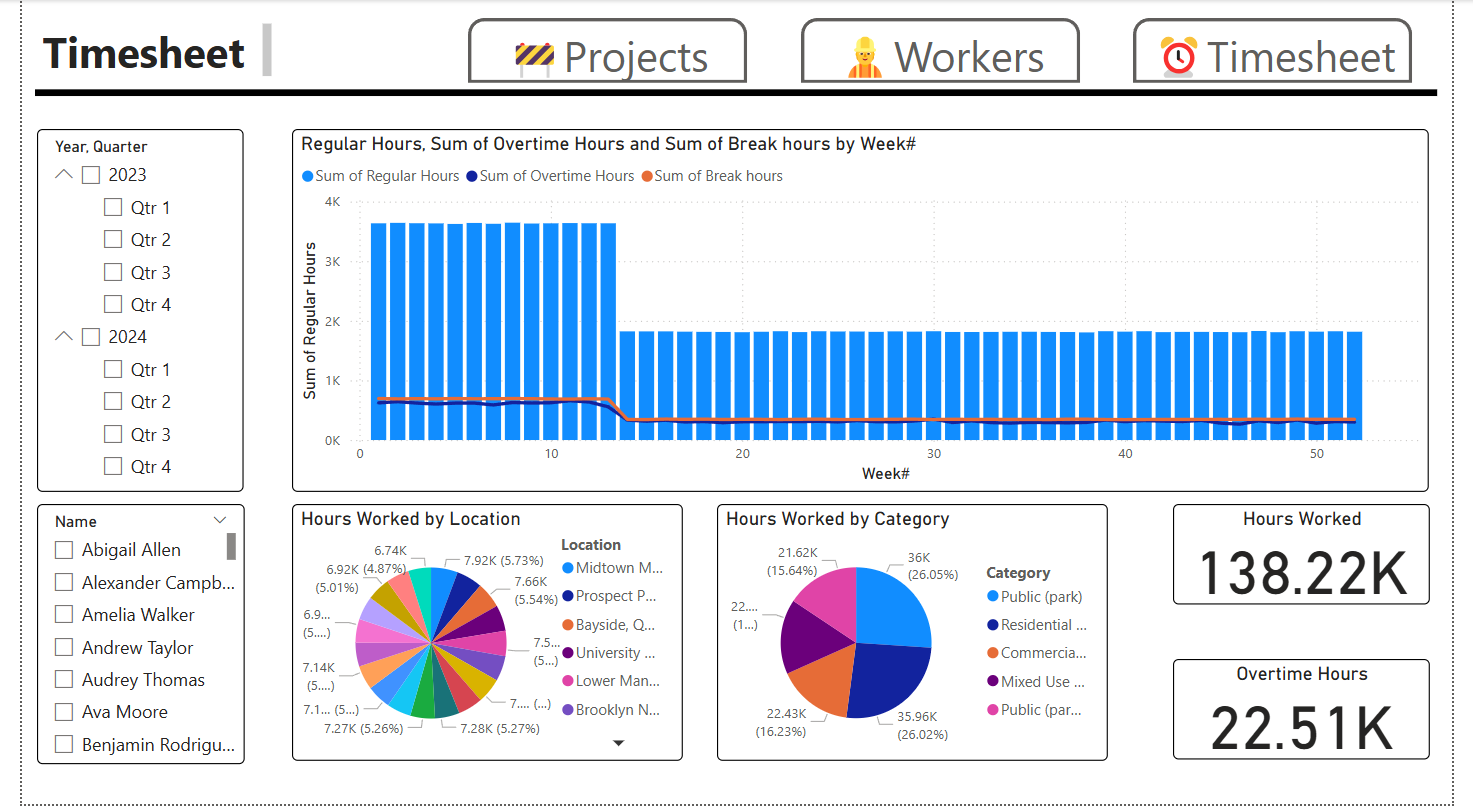

The page's visual inventory and layout, read from the dashboard file:
{"tool":"powerbi","page":{"name":"Timesheet","canvas":[1280,720],"ordinal":2},"visuals":[{"type":"textbox","box":[13.6,16.5,215,58.4],"z":0},{"type":"actionButton","box":[995,16.5,250,58.4],"z":1000},{"type":"actionButton","box":[697.4,16.5,250,58.4],"z":2000},{"type":"actionButton","box":[399.8,16.5,250,58.4],"z":3000},{"type":"shape","box":[11.7,74.9,1255.7,15.6],"z":4000},{"type":"slicer","fields":{"Values":["Timesheet.Date.Variation.Date Hierarchy.Year","Timesheet.Date.Variation.Date Hierarchy.Quarter"]},"box":[13.6,115.7,184.8,324.9],"z":5000},{"type":"lineClusteredColumnComboChart","title":"Regular Hours, Sum of Overtime Hours and Sum of Break hours by Week#","fields":{"Y":["Timesheet.Regular Hours"],"Y2":["Timesheet.Overtime Hours","Timesheet.Break hours"],"Category":["Timesheet.Week#"]},"box":[242.2,115.7,1018.4,324.9],"z":6000},{"type":"slicer","fields":{"Values":["Employees.Name"]},"box":[13.6,451.3,185.8,233.4],"z":7000},{"type":"pieChart","title":"Hours Worked by Location","fields":{"Y":["Timesheet.Hours Worked"],"Category":["Projects.Location"]},"box":[242.2,451.3,350,230],"z":8000},{"type":"pieChart","title":"Hours Worked by Category","fields":{"Y":["Timesheet.Hours Worked"],"Category":["Project Categories.Category"]},"box":[622.5,451.3,350.2,229.5],"z":9000},{"type":"card","title":"Hours Worked","fields":{"Values":["Timesheet.Hours Worked"]},"box":[1031,451.3,229.5,90.5],"z":10000},{"type":"card","title":"Overtime Hours ","fields":{"Values":["Timesheet.Break hours"]},"box":[1031,590.4,229.5,90.5],"z":11000}]}

Visuals, with their boxes in screenshot pixels (x1, y1, x2, y2), scaled from the page's 1280x720 canvas onto the 1473x810 screenshot:
textbox: crop(16, 19, 263, 84)
actionButton: crop(1145, 19, 1433, 84)
actionButton: crop(803, 19, 1090, 84)
actionButton: crop(460, 19, 748, 84)
shape: crop(13, 84, 1459, 102)
slicer - Timesheet.Date.Variation.Date Hierarchy.Year x Timesheet.Date.Variation.Date Hierarchy.Quarter: crop(16, 130, 228, 496)
"Regular Hours, Sum of Overtime Hours and Sum of Break hours by Week#" lineClusteredColumnComboChart: crop(279, 130, 1451, 496)
slicer - Employees.Name: crop(16, 508, 229, 770)
"Hours Worked by Location" pieChart: crop(279, 508, 681, 766)
"Hours Worked by Category" pieChart: crop(716, 508, 1119, 766)
"Hours Worked" card: crop(1186, 508, 1451, 610)
"Overtime Hours " card: crop(1186, 664, 1451, 766)
